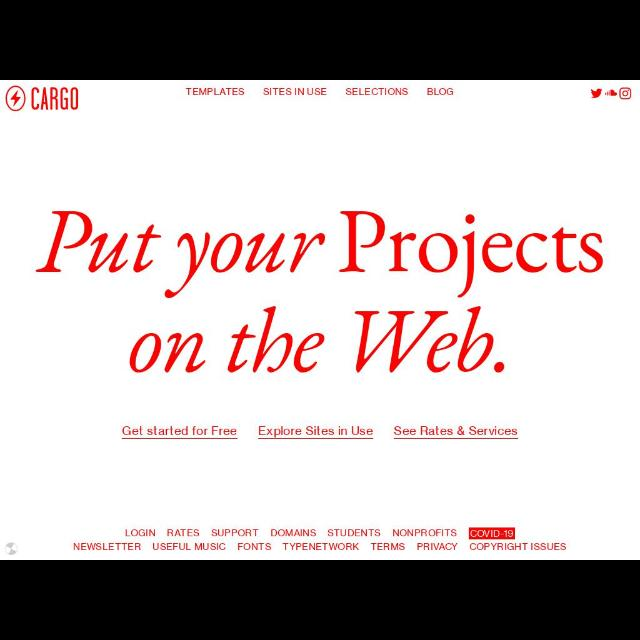icon: (590, 89, 602, 99), (621, 88, 631, 99), (606, 90, 616, 96)
image: (36, 210, 602, 372), (5, 85, 79, 113)
text: (258, 425, 374, 439), (122, 424, 238, 436), (393, 426, 517, 436), (264, 85, 326, 98), (469, 543, 566, 551), (283, 542, 359, 552), (187, 86, 245, 98), (347, 87, 408, 97), (153, 544, 225, 552), (74, 542, 140, 550), (392, 529, 456, 537), (210, 528, 258, 538), (270, 528, 316, 538), (327, 529, 381, 537), (237, 541, 271, 551), (471, 530, 513, 538), (416, 543, 458, 551), (167, 528, 199, 538), (371, 542, 405, 550), (427, 88, 453, 96), (124, 530, 156, 536)
